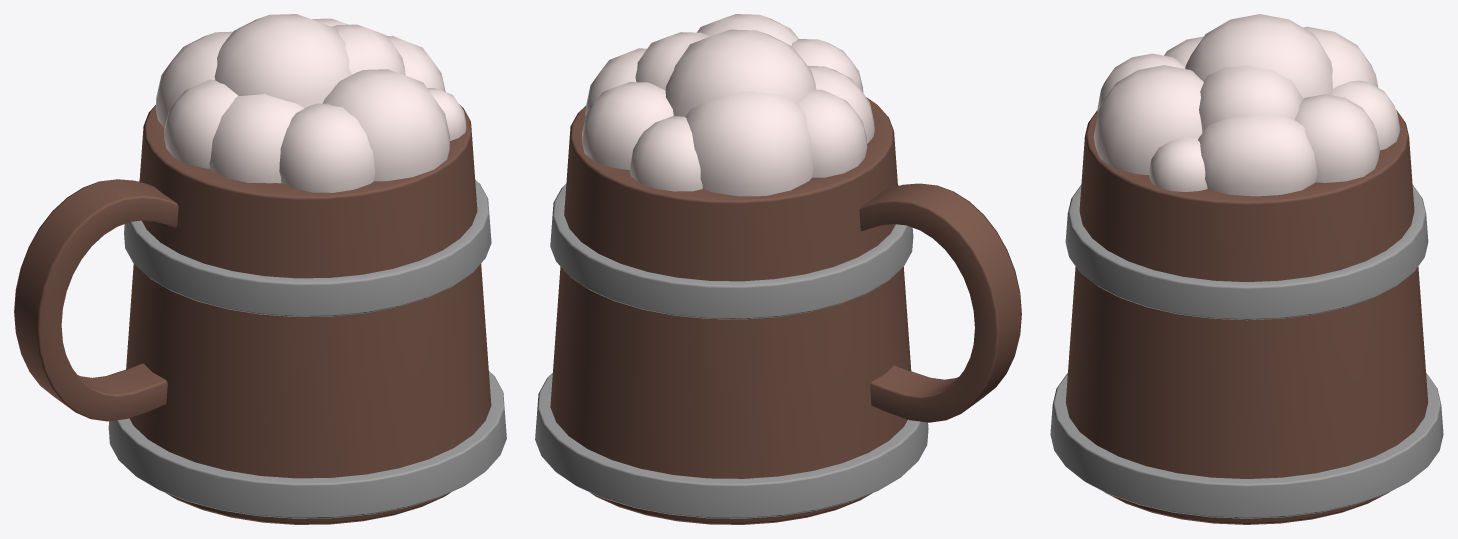
The model's file is Isl_6_Beer_mug_2.fbx.
3 renders of one model, left to right at view 1: azimuth 30°, elevation 25°; view 2: azimuth 150°, elevation 25°; view 3: azimuth 270°, elevation 25°, orthographic.
Visible parts, largest first — view 1: Isl_6_Beer_mug_2; view 2: Isl_6_Beer_mug_2; view 3: Isl_6_Beer_mug_2.
Boxes of the visible parts, x1,y1,x2,y2 form: Isl_6_Beer_mug_2: [14, 14, 506, 524]; Isl_6_Beer_mug_2: [535, 14, 1021, 524]; Isl_6_Beer_mug_2: [1050, 14, 1443, 524].
Bounding box in the file's own units: 21.23 × 19.14 × 16.13.
